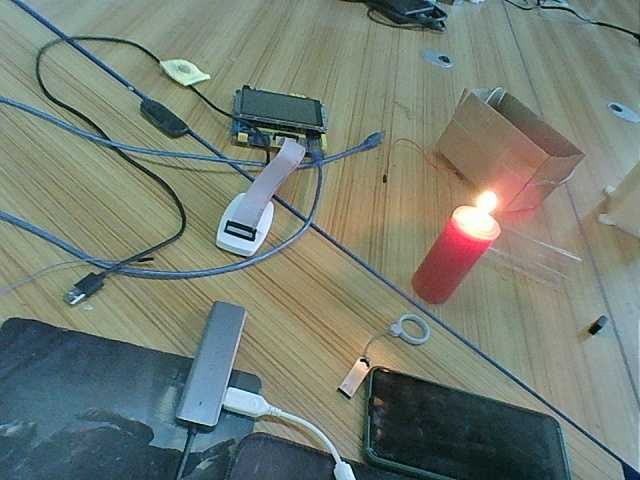candle: (410, 220, 505, 302)
fire: (455, 191, 505, 232)
